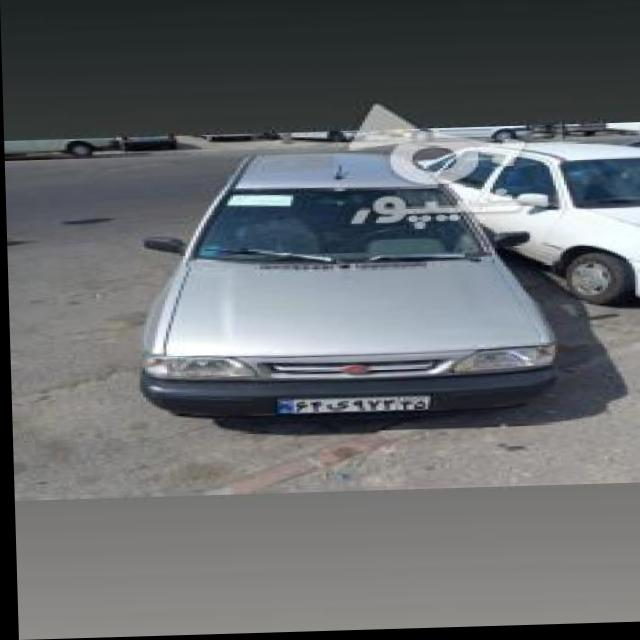licence: (267, 394, 429, 419)
